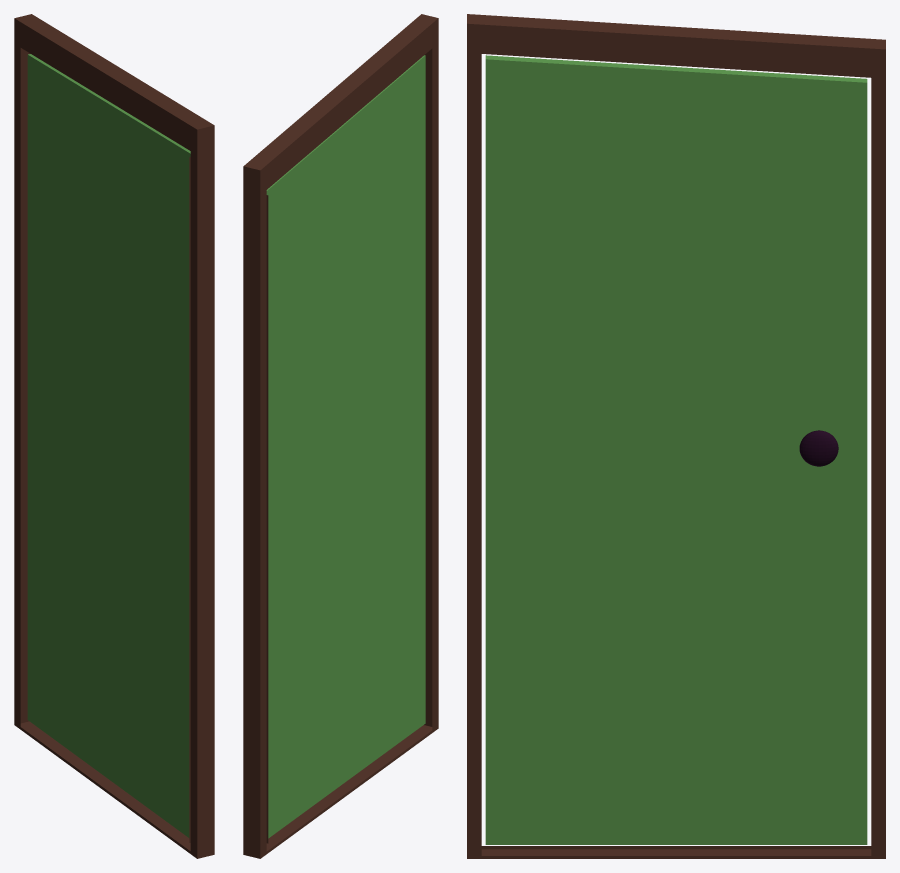
The model's file is door.glb.
3 views of the same model, side by side, from view 1: azimuth 30°, elevation 25°; view 2: azimuth 150°, elevation 25°; view 3: azimuth 270°, elevation 25° (orthographic). The views are drawn at different scales.
Visible parts, largest first — view 1: Cube.001, Cube; view 2: Cube.001, Cube; view 3: Cube.001, Cube.
Part boxes in pixels (x1,y1,x2,y2): Cube.001: (27,54,190,837); Cube: (14,14,214,858); Cube.001: (266,55,425,838); Cube: (243,14,438,858); Cube.001: (485,55,867,844); Cube: (467,14,885,858).
Bounding box in the file's own units: 0.1683 × 4.4 × 2.
